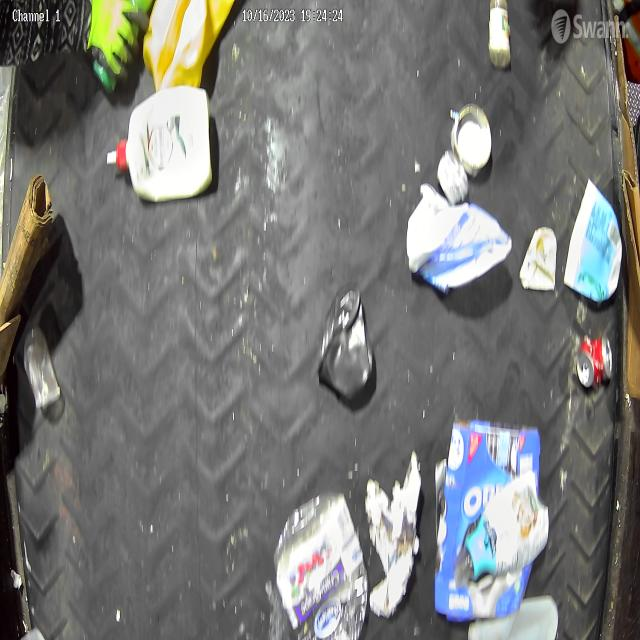can: (449, 101, 492, 177), (575, 332, 613, 389), (436, 148, 470, 207)
non_white_jug: (142, 0, 235, 92)
